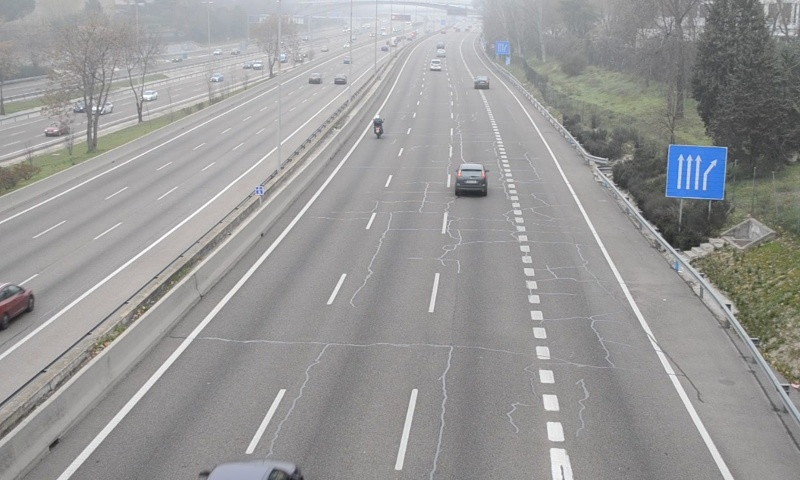car: (454, 163, 488, 198), (474, 76, 488, 90), (430, 59, 441, 72)
motorcycle: (372, 115, 384, 140)
